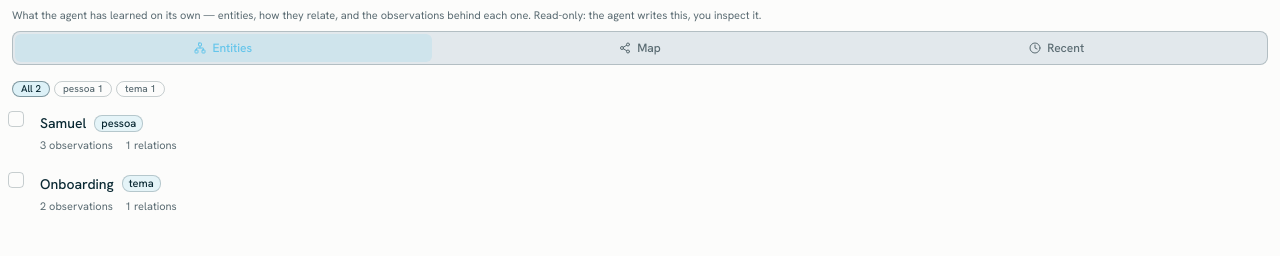
the knowledge graph's multi-select › ticks a row without opening its detail pane
Click the checkbox named "Select Samuel": click(16, 119) [8, 111, 24, 127]
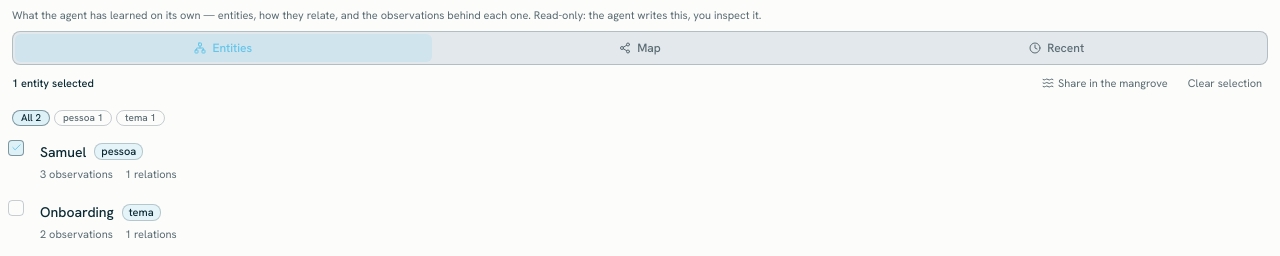
Expected: the text "1 entity selected" is shown, [12, 75, 94, 92]
